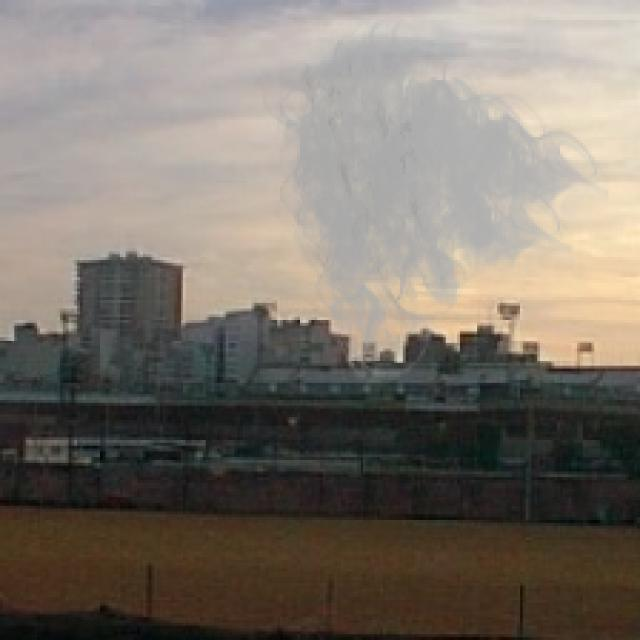smoke: (254, 6, 609, 391)
